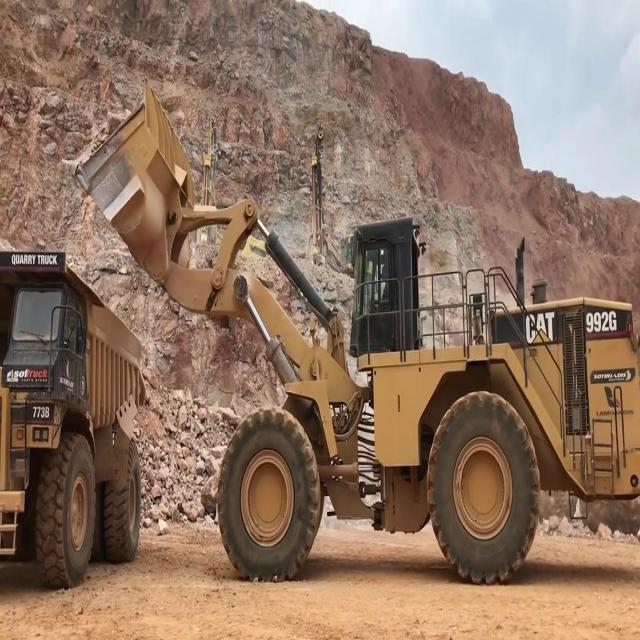Dump Truck: (0, 247, 146, 591)
Loader: (72, 78, 640, 585)
